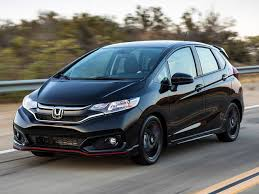car: (7, 35, 249, 167)
